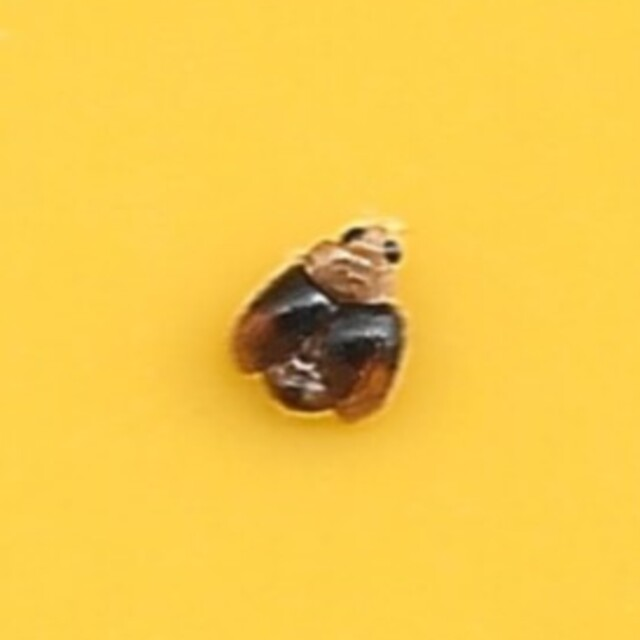Coleoptera: (234, 212, 406, 428)
